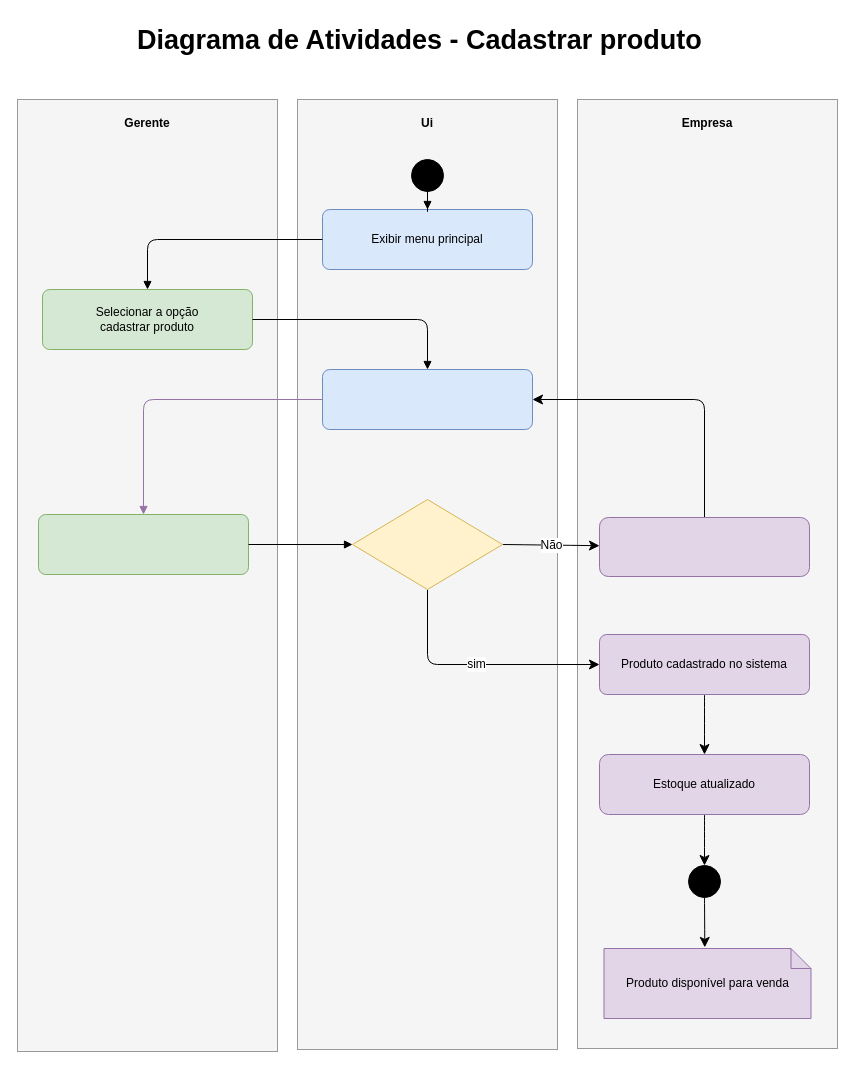
Some shapes in this 855 by 1069 pixel diagram are drawn without their labels. Here are the shapes that lost their labels. From the top down, the centre of each, then its label:
At point (427, 399): "Solicita os dados do produto".
At point (143, 544): "Insere os dados do produto".
At point (427, 544): "dados válidos?".
At point (704, 546): "Exibir erro de validação".
